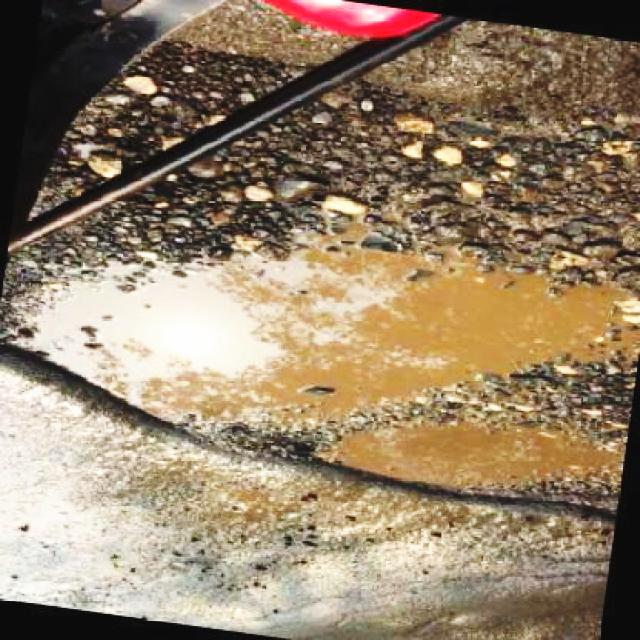pothole: (0, 212, 640, 518)
